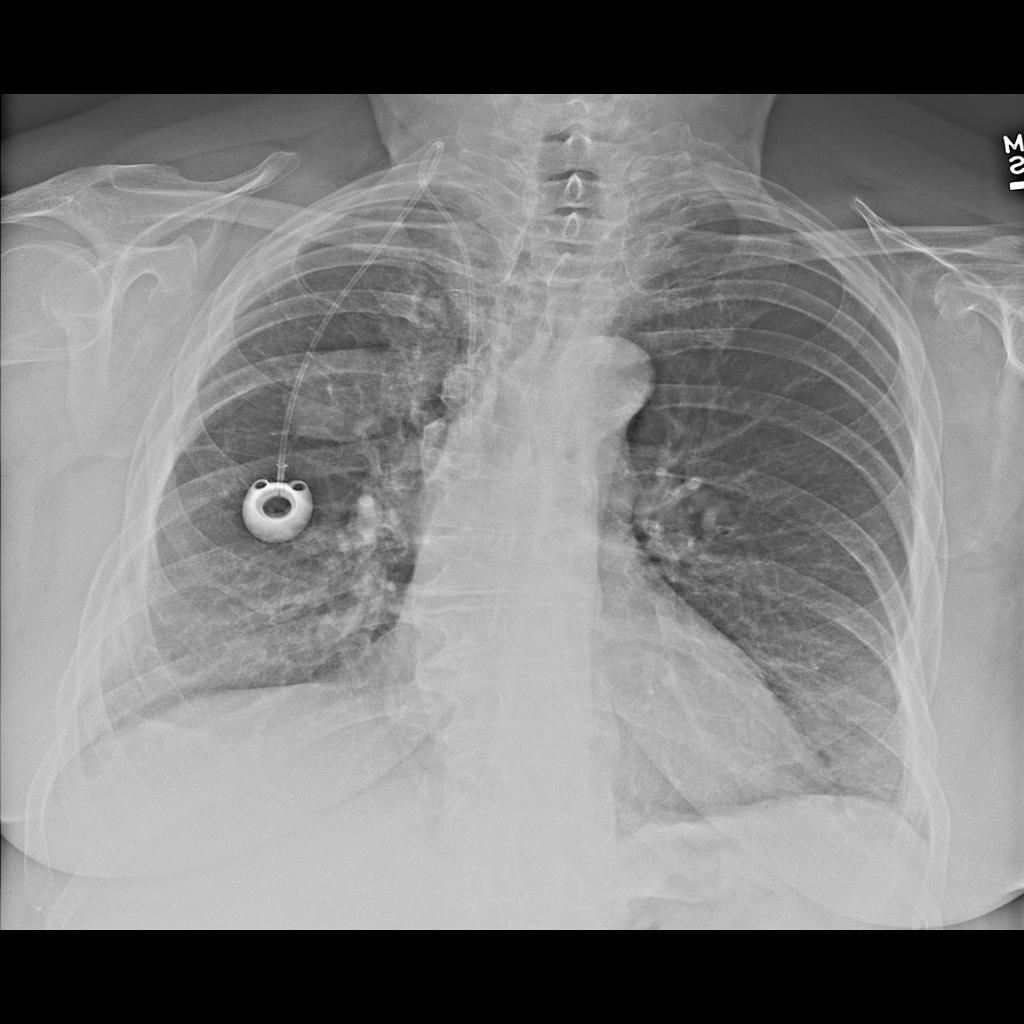Nodule: (285, 343, 391, 451), (383, 342, 458, 421)
